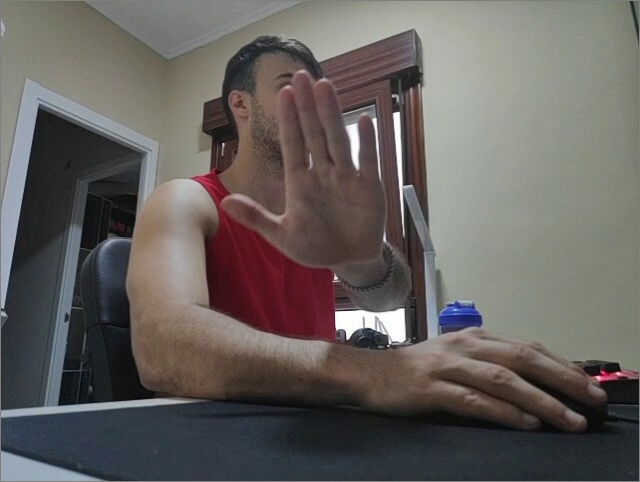Palm: (220, 70, 386, 270)
